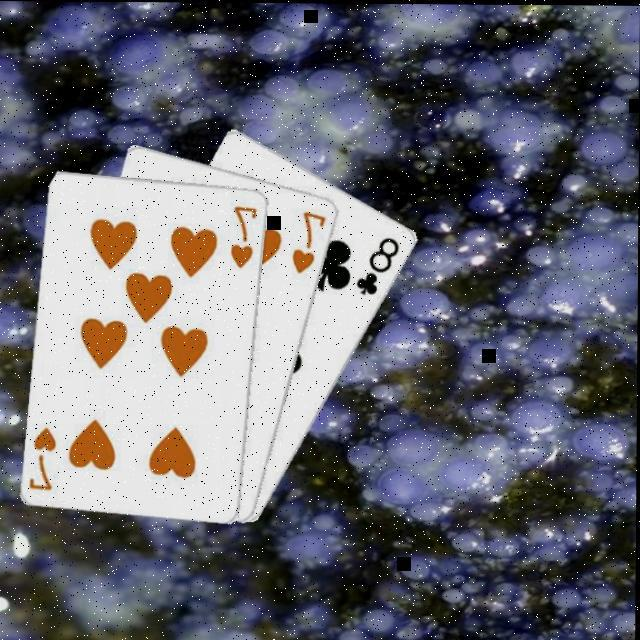7H: (288, 205, 328, 275), (227, 200, 260, 270), (26, 422, 59, 492)
8C: (352, 230, 402, 296)
